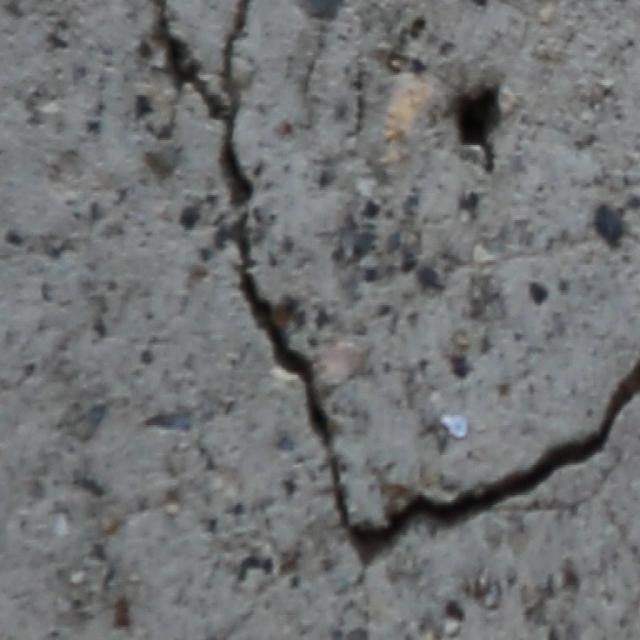Radial: (128, 0, 640, 565)
